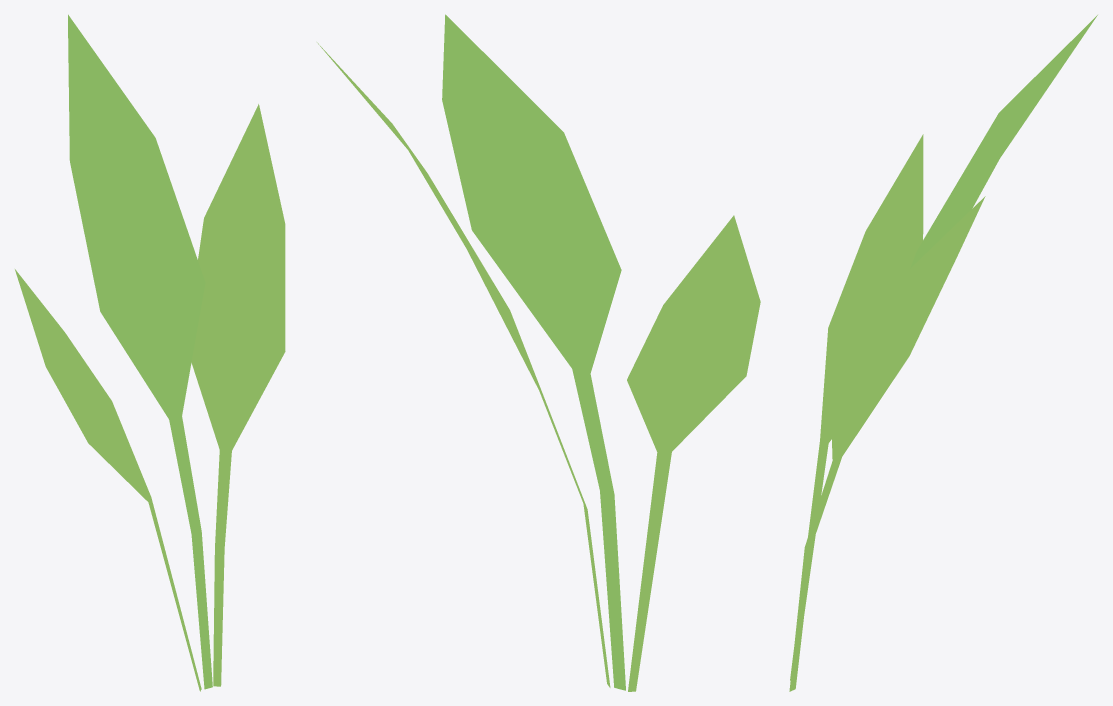
The model's file is Plant_g_OneS_03.fbx.
The picture shows the model from 3 angles, left to right: view 1: azimuth 30°, elevation 25°; view 2: azimuth 150°, elevation 25°; view 3: azimuth 270°, elevation 25°; orthographic projection. The views are drawn at different scales.
Parts seen in each view (by area): view 1: Plant_g_OneS_03; view 2: Plant_g_OneS_03; view 3: Plant_g_OneS_03.
Part boxes in pixels (x1,y1,x2,y2): Plant_g_OneS_03: (15, 14, 285, 691); Plant_g_OneS_03: (317, 14, 760, 691); Plant_g_OneS_03: (789, 15, 1097, 691).
Size of the model in its own units: 0.2865 by 0.5846 by 0.2454.
